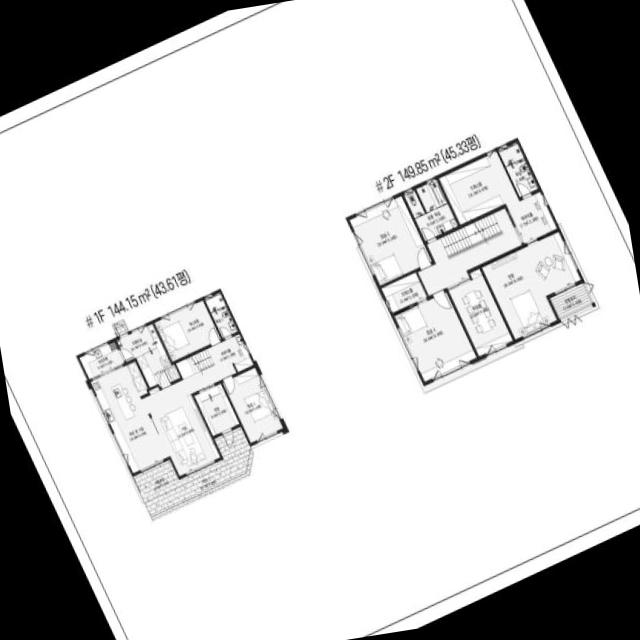background: (0, 0, 640, 640)
space_bedroom: (481, 231, 581, 339), (349, 195, 432, 285), (394, 291, 476, 381), (222, 367, 283, 442), (154, 300, 221, 361)
space_dressroom: (438, 151, 557, 243), (207, 333, 253, 379), (381, 272, 427, 312)
space_front: (194, 383, 239, 436)
space_kitchen: (90, 361, 168, 473), (79, 341, 124, 379)
space_living_room: (141, 365, 221, 476)
space_multipurpose_space: (116, 323, 180, 387)
space_other: (417, 208, 522, 295), (448, 268, 513, 356)
space_staircase: (439, 213, 503, 259), (175, 348, 214, 379)
space_toilet: (498, 142, 538, 197), (415, 203, 458, 241), (204, 292, 238, 338), (416, 179, 447, 212), (403, 189, 425, 218)
